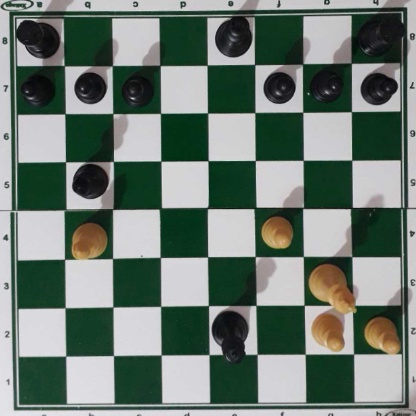black-bishop: (70, 162, 110, 201)
black-king: (213, 15, 254, 58)
black-pawn: (360, 69, 396, 105), (262, 67, 295, 102), (20, 71, 54, 104), (73, 70, 105, 104), (121, 71, 153, 105), (311, 67, 343, 100)
black-queen: (212, 309, 248, 365)
black-rook: (358, 13, 405, 55), (13, 16, 60, 58)
white-bishop: (68, 223, 108, 261)
white-king: (307, 262, 358, 315)
white-pawn: (309, 312, 348, 353), (363, 315, 400, 353), (259, 213, 296, 250)
